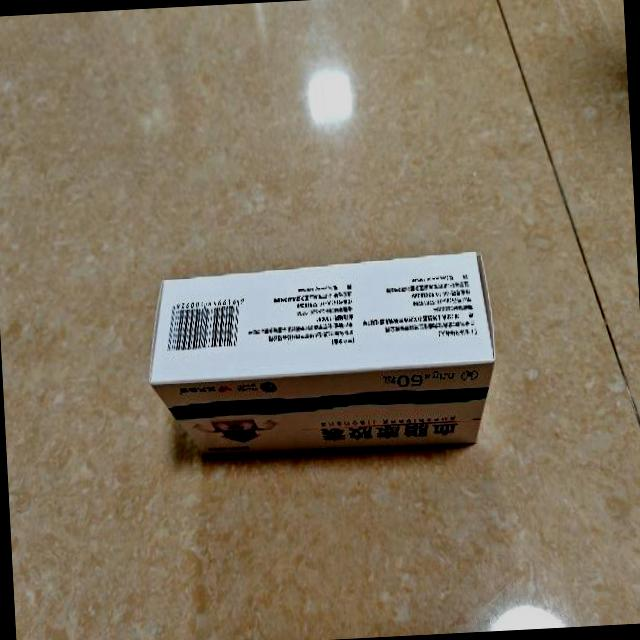box: (142, 248, 500, 458)
